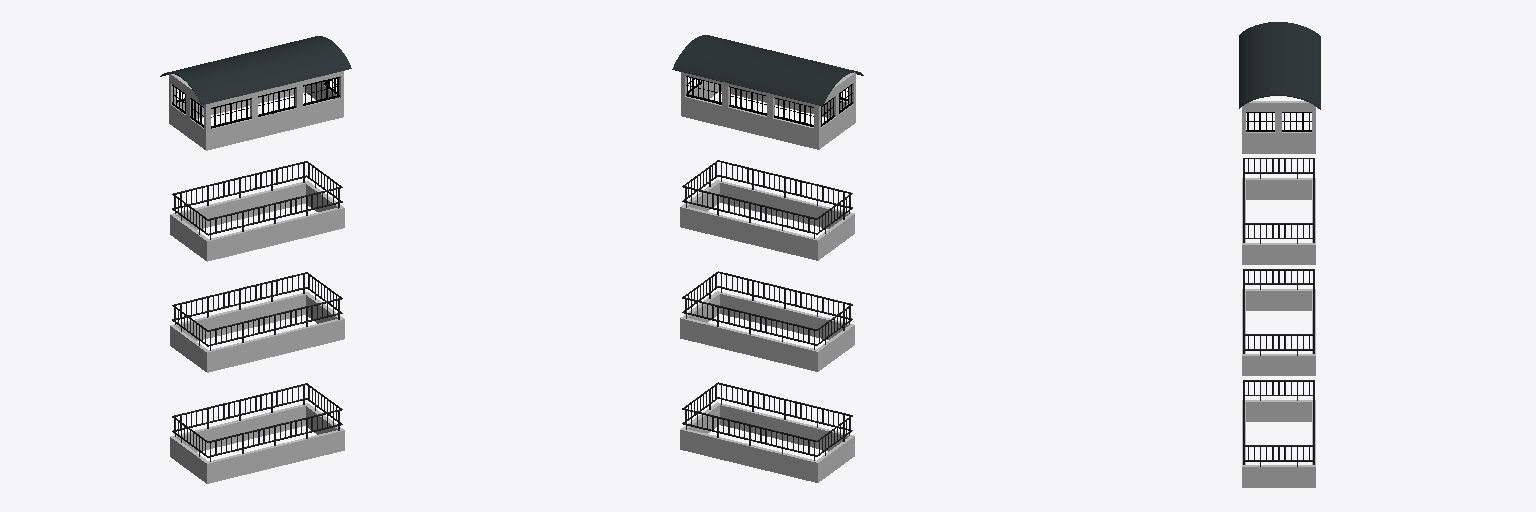
The model's file is balcon_5.obj.
3 renders of one model, left to right at view 1: azimuth 30°, elevation 25°; view 2: azimuth 150°, elevation 25°; view 3: azimuth 270°, elevation 25°, orthographic.
Parts seen in each view (by area): view 1: BARROTES_PISOS_Cylinder.002; view 2: BARROTES_PISOS_Cylinder.002; view 3: BARROTES_PISOS_Cylinder.002.
Boxes of the visible parts, box(x1,y1,x2,y2) form: BARROTES_PISOS_Cylinder.002: box(160, 36, 351, 483); BARROTES_PISOS_Cylinder.002: box(672, 35, 863, 482); BARROTES_PISOS_Cylinder.002: box(1239, 22, 1320, 487).
Bounding box in the file's own units: 7.78 × 19.54 × 3.69.